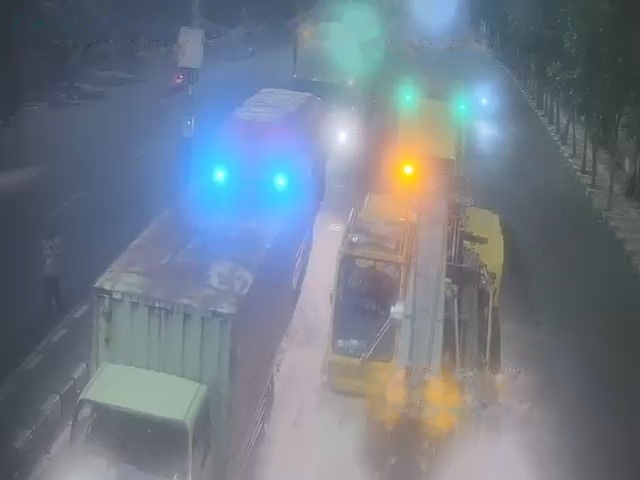Mobil: (209, 75, 322, 212)
Truk: (102, 178, 304, 467), (343, 187, 519, 439), (393, 92, 464, 169)
